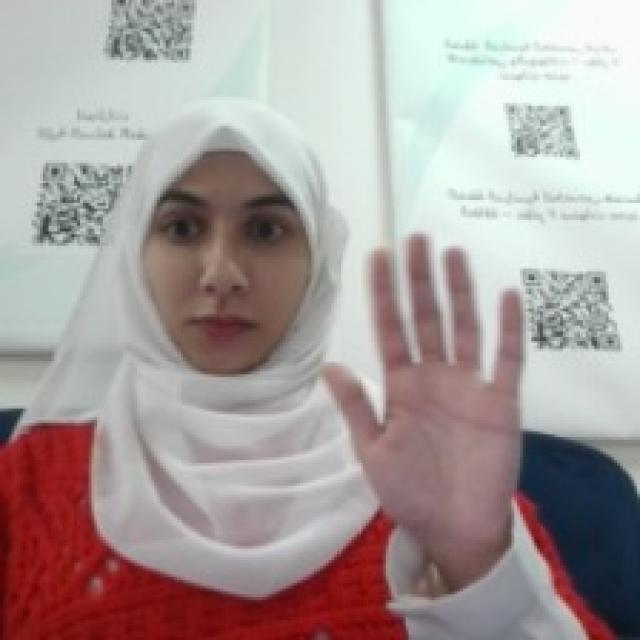Hello: (317, 223, 532, 534)
